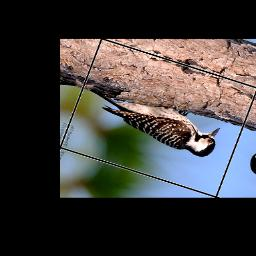Woodpecker: (73, 78, 229, 164)
